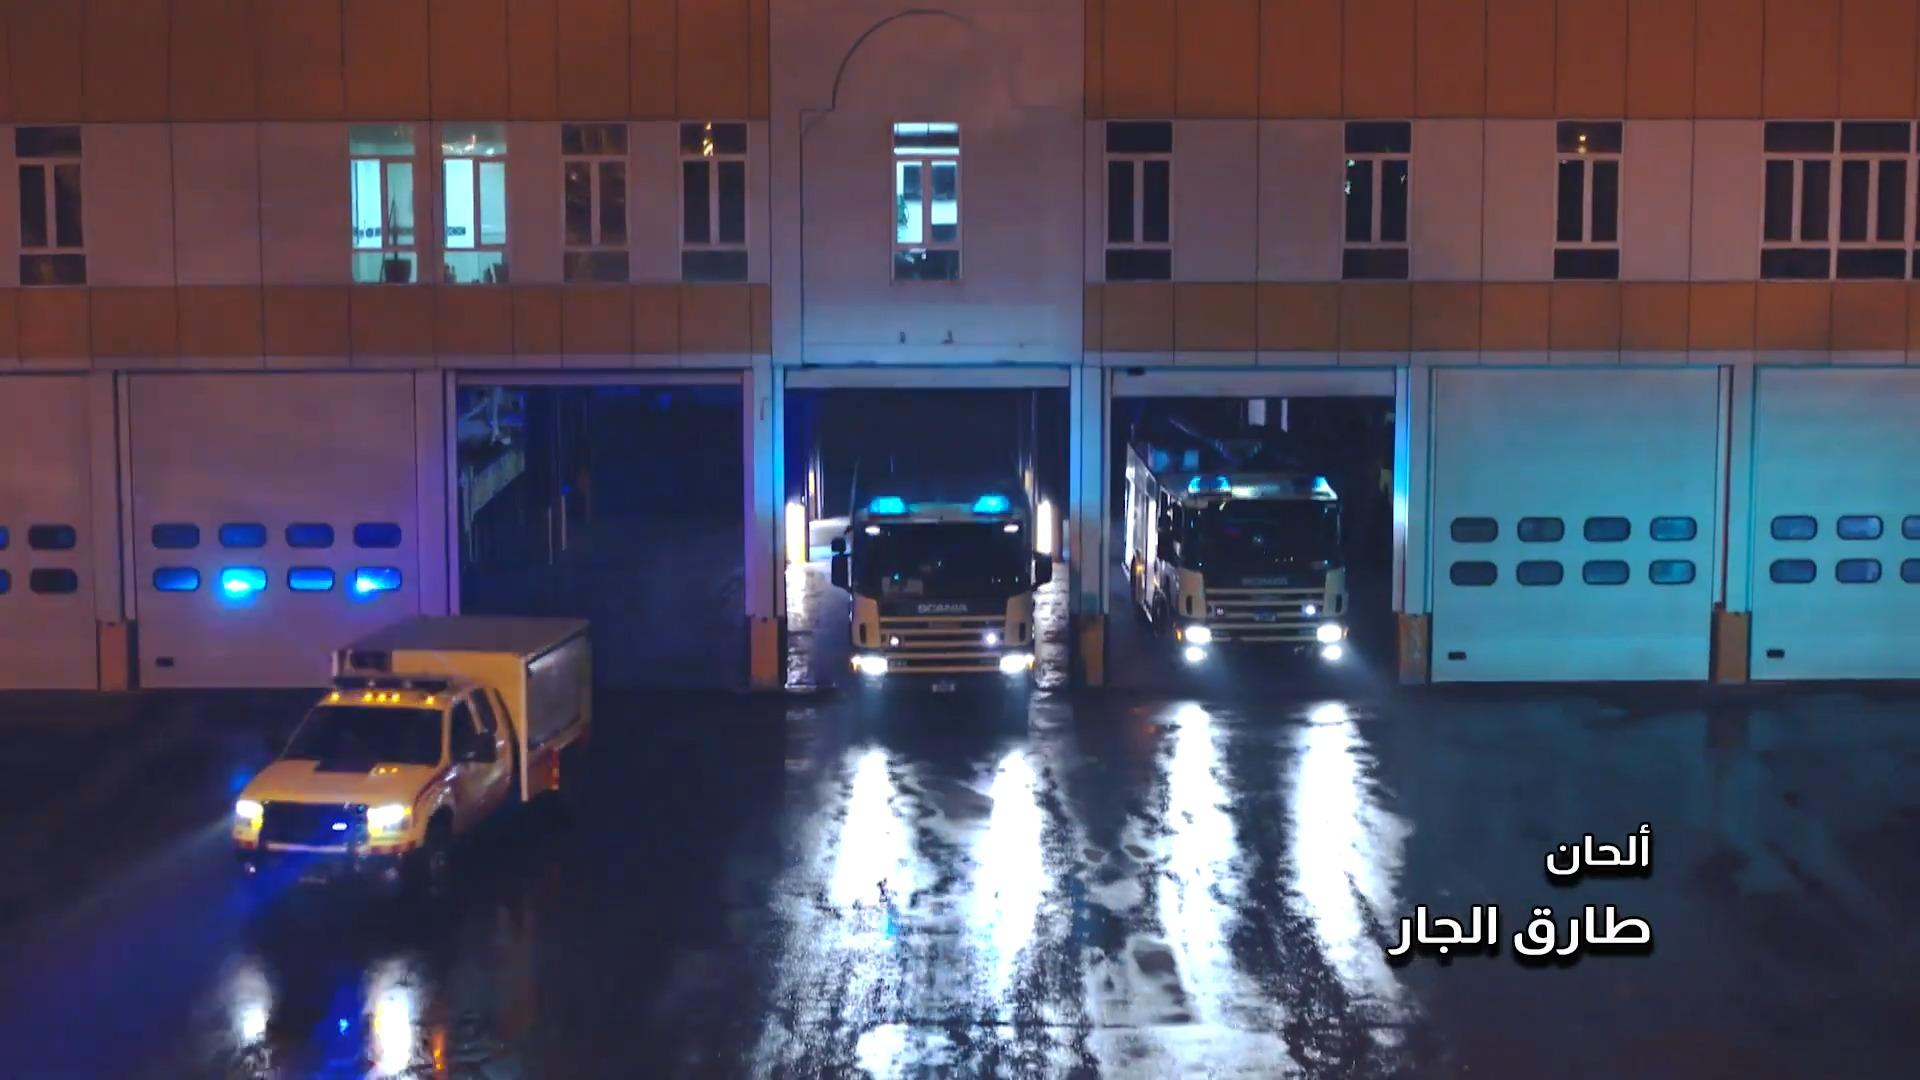firetruck_off: (232, 614, 592, 921)
firetruck_on: (1123, 417, 1368, 698), (830, 444, 1050, 734)
